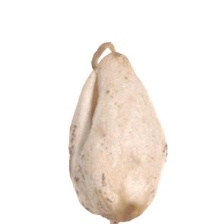L1: (89, 40, 120, 78), (96, 204, 148, 224)
L2: (68, 41, 168, 223)
